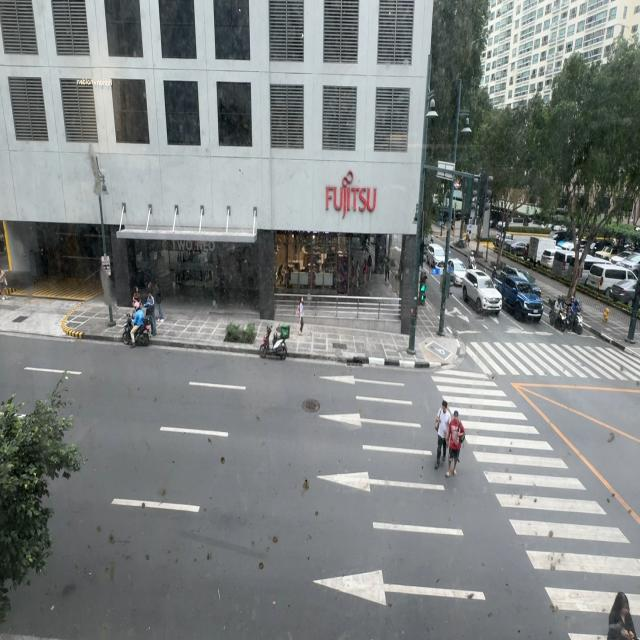crossing: (596, 562, 640, 640)
jaywalking: (445, 408, 464, 476), (435, 398, 451, 470)
pedestrain: (145, 284, 157, 338), (297, 296, 305, 337), (132, 287, 141, 314)
